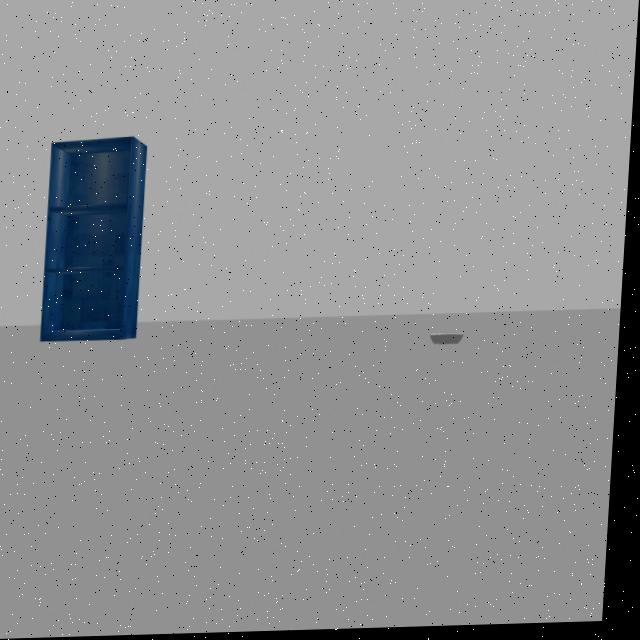bowl: (418, 319, 479, 363)
shelf: (31, 120, 160, 354)
